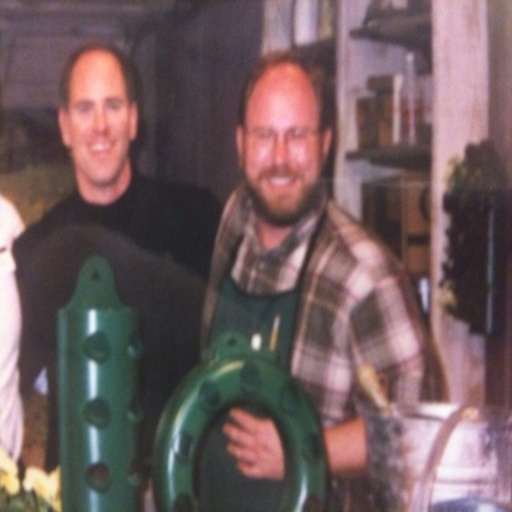hand: (223, 405, 284, 481)
